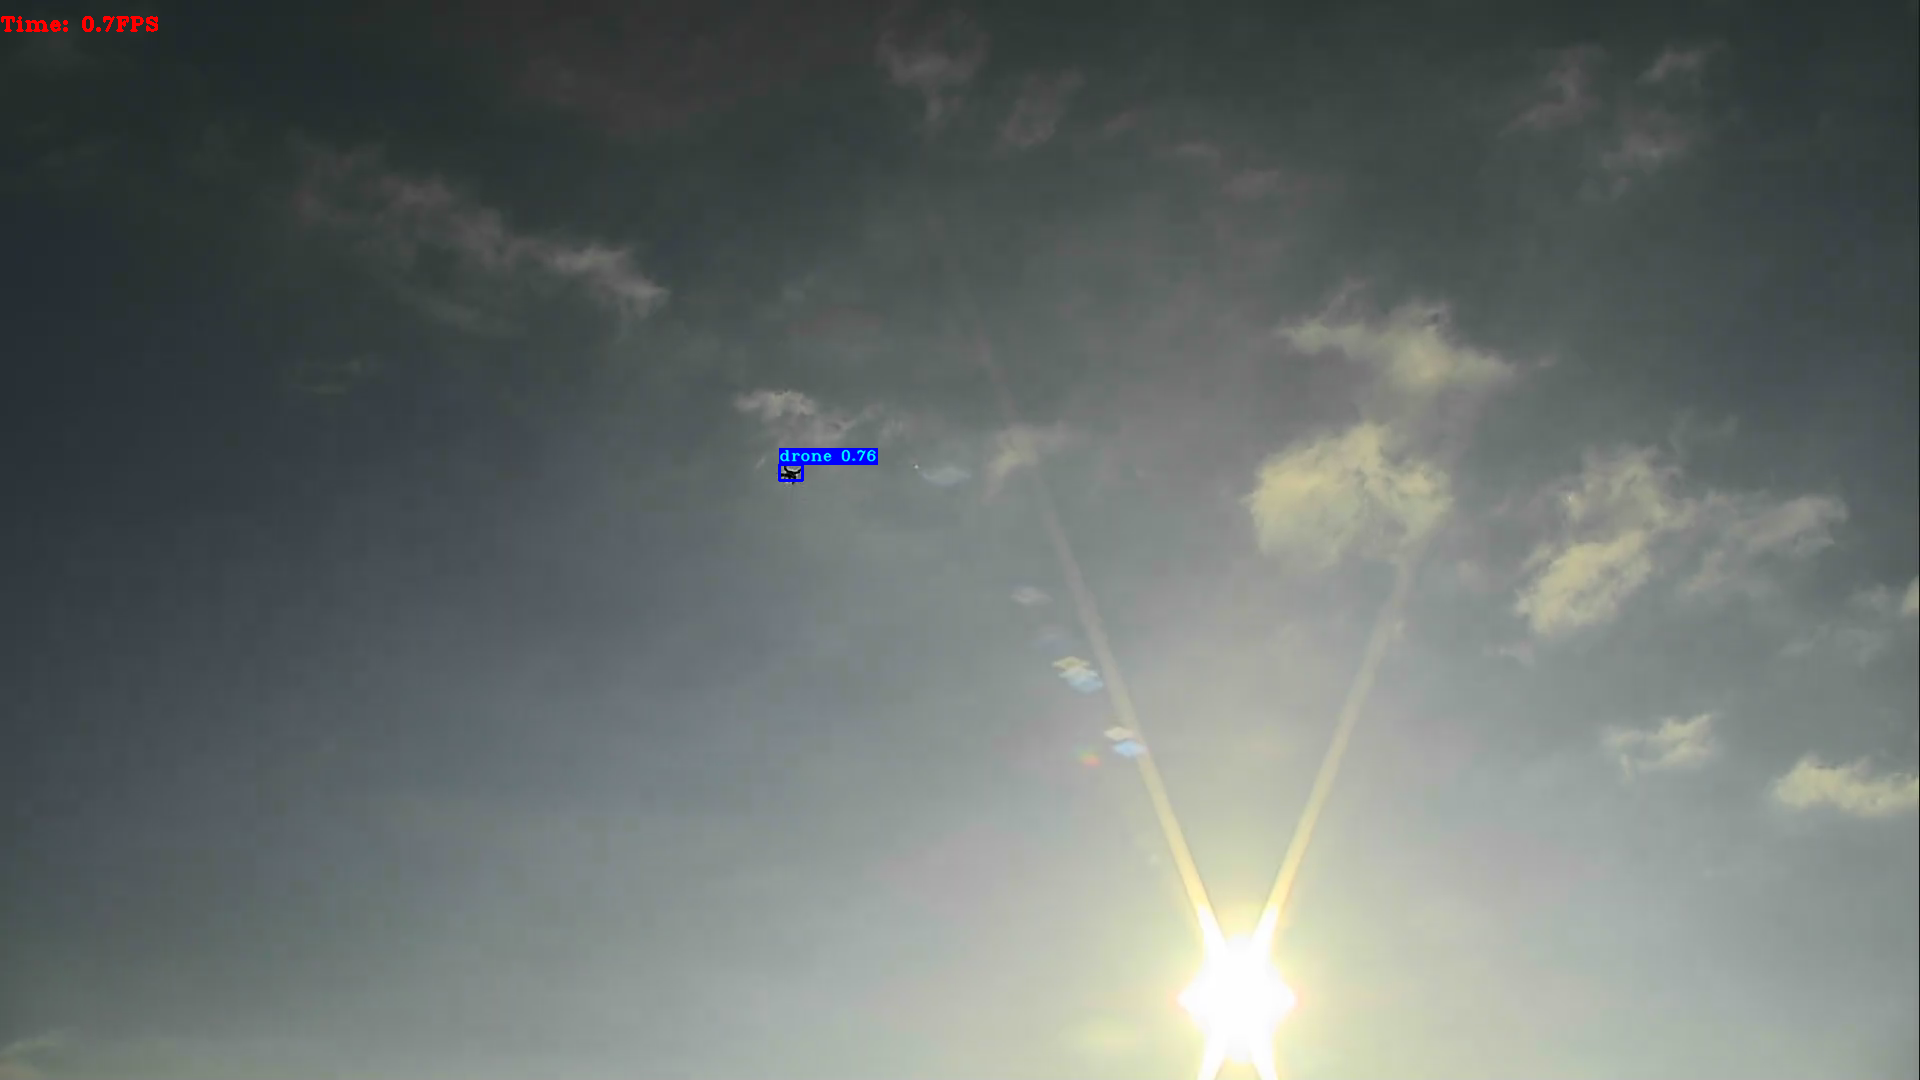drone: (779, 464, 802, 480)
